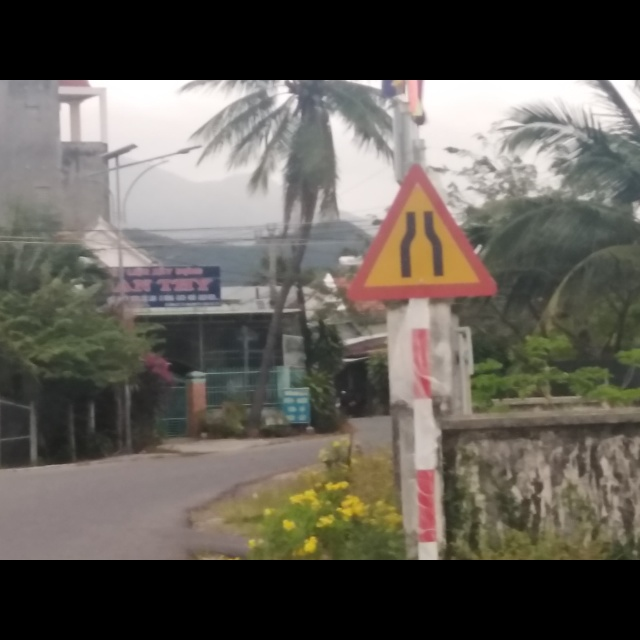Đường bị hẹp cả hai bên: (346, 163, 497, 299)
